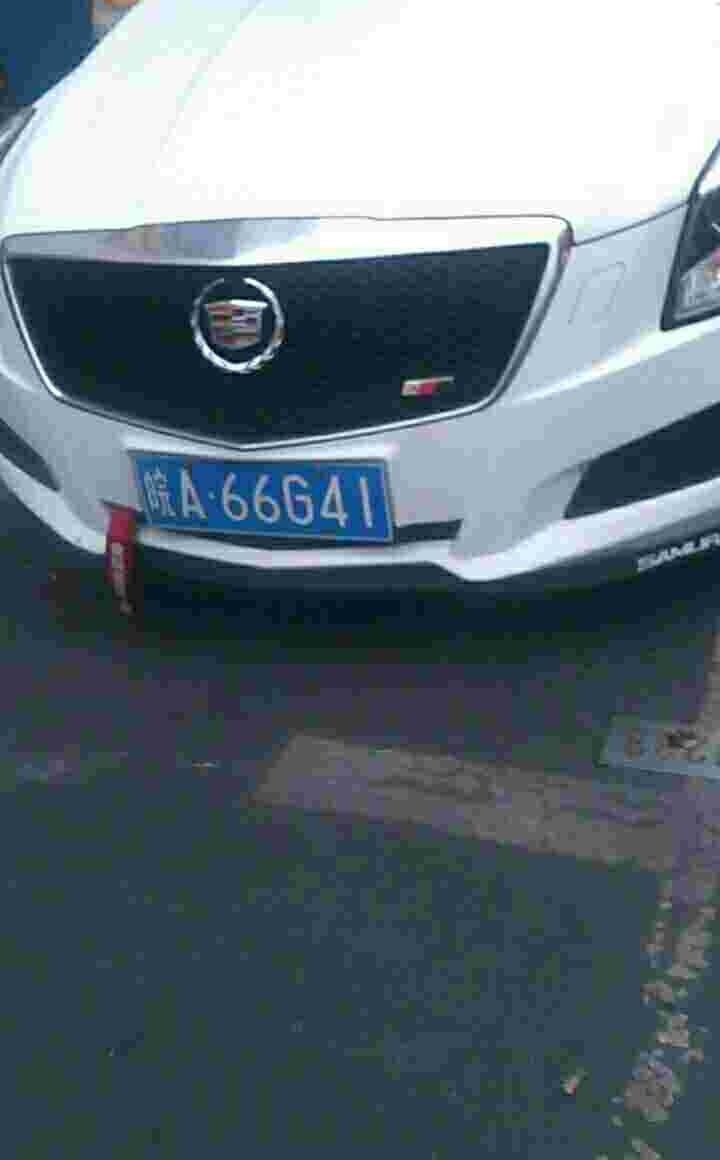plate: (126, 449, 404, 547)
